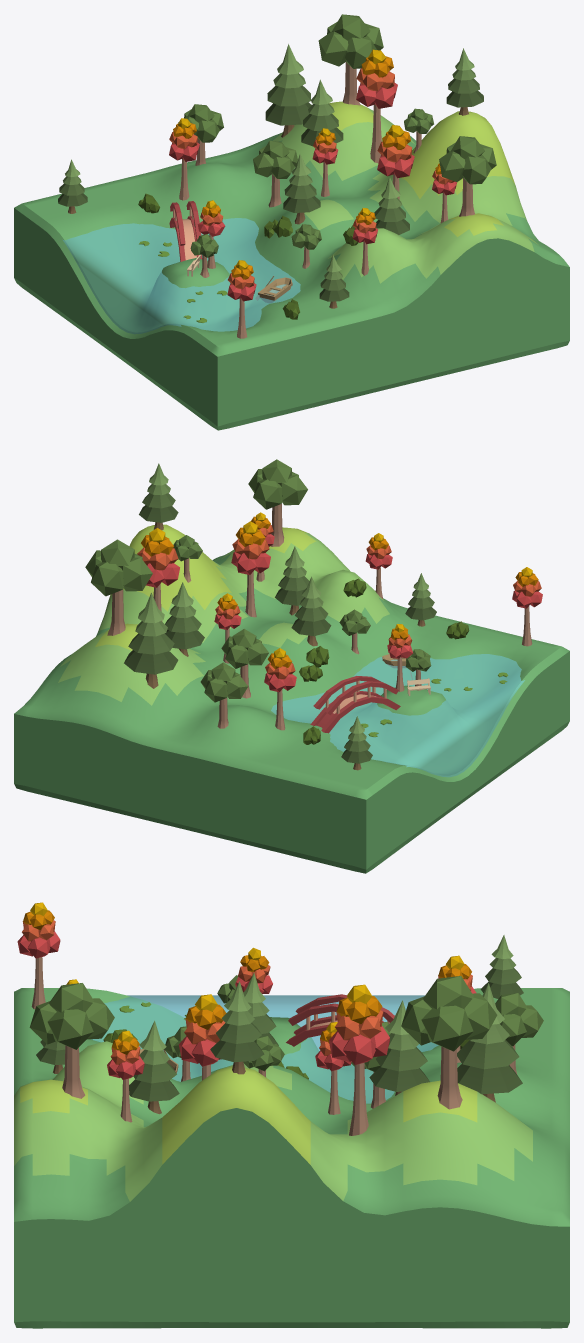
File: forestpond.fbx
The picture shows the model from 3 angles, top to bottom: view 1: azimuth 30°, elevation 25°; view 2: azimuth 150°, elevation 25°; view 3: azimuth 270°, elevation 25°; orthographic projection. The views are drawn at different scales.
Parts seen in each view (by area): view 1: terrain, water, pPlatonic5 (×2), pPlatonic2 (×2), pPlatonic1 (×2), pCone4, pCone3, pCube1, pCube2; view 2: terrain, water, pCone4 (×4), pPlatonic3 (×2), pPlatonic5 (×2), pPlatonic1 (×2), pCube1, pCube2, pCone3, pCylinder1; view 3: terrain, water, pCone4 (×4), pCone3 (×4), pPlatonic4 (×3), pPlatonic1 (×3), pCylinder1 (×2), pPlatonic3 (×2), pPlatonic2 (×2), pCylinder2, pCube2, pPlatonic13 (+1 smaller).
Part boxes in pixels (box(x1,y1,x2,y2)): terrain: box(14, 101, 569, 430); water: box(63, 218, 300, 334); pPlatonic5 (×2): box(318, 31, 465, 181); pPlatonic2 (×2): box(345, 36, 491, 184); pPlatonic1 (×2): box(331, 14, 484, 159); pCone4: box(265, 102, 311, 125); pCone3: box(267, 85, 310, 106); pCube1: box(169, 216, 202, 261); pCube2: box(170, 201, 201, 245); terrain: box(14, 524, 569, 873); water: box(271, 654, 524, 777); pCone4 (×4): box(124, 505, 331, 674); pPlatonic3 (×2): box(91, 479, 282, 596); pPlatonic5 (×2): box(121, 475, 307, 591); pPlatonic1 (×2): box(101, 459, 291, 568); pCube1: box(310, 691, 400, 733); pCube2: box(313, 676, 398, 715); pCone3: box(128, 633, 174, 654); pCylinder1: box(107, 589, 125, 635); terrain: box(14, 988, 569, 1328); water: box(91, 995, 438, 1103); pCone4 (×4): box(129, 1040, 522, 1101); pCone3 (×4): box(133, 1022, 519, 1083); pPlatonic4 (×3): box(47, 1005, 526, 1051); pPlatonic1 (×3): box(49, 976, 527, 1016); pCylinder1 (×2): box(62, 1045, 462, 1109); pPlatonic3 (×2): box(86, 993, 497, 1039); pPlatonic2 (×2): box(29, 996, 431, 1045); pCylinder2: box(349, 1063, 368, 1135); pCube2: box(288, 994, 394, 1025); pPlatonic13: box(343, 1034, 375, 1064).
Bounding box in the file's own units: 143 × 94.3 × 143.
